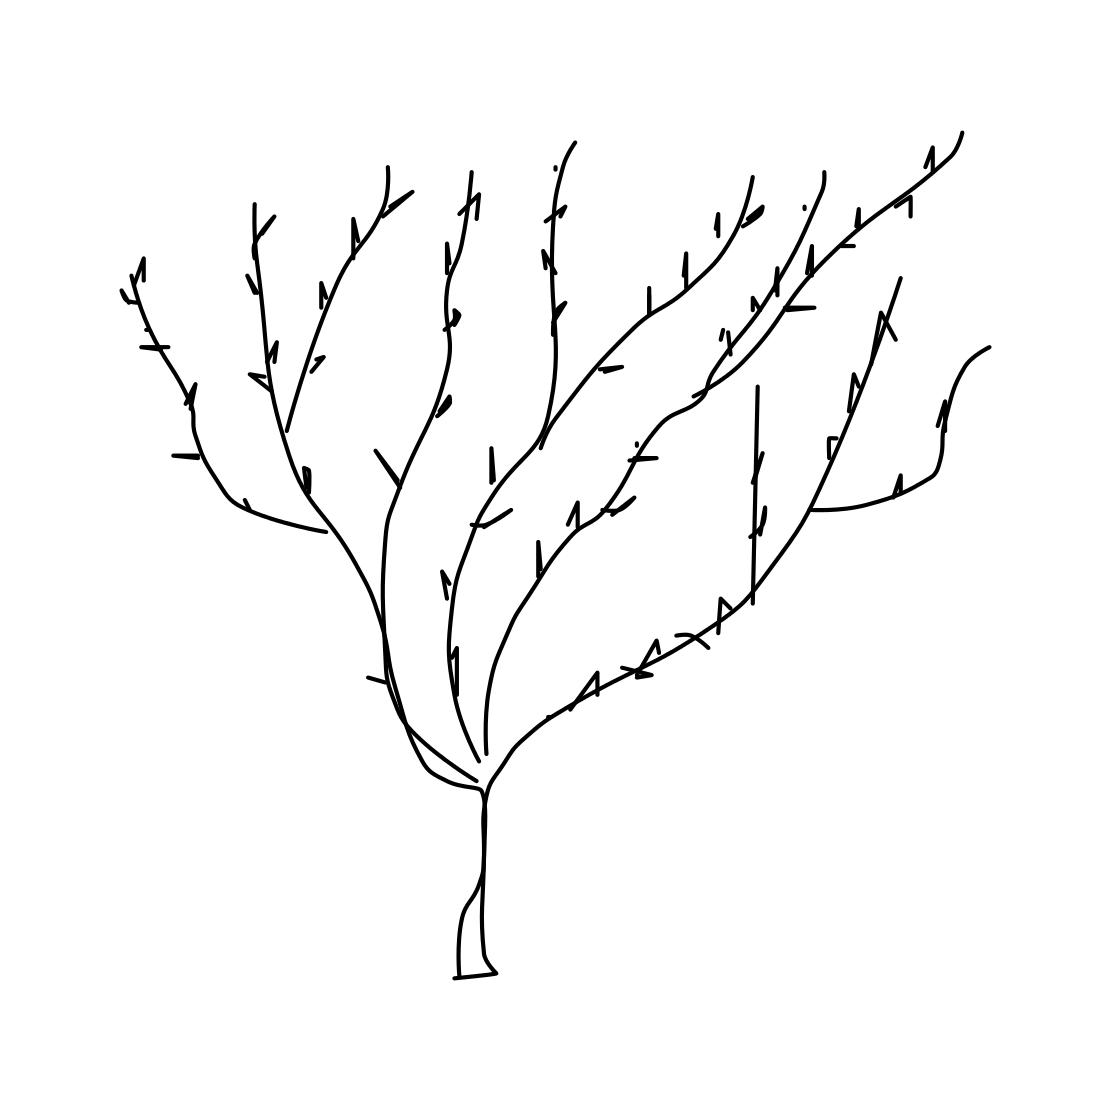Tree: (73, 61, 1001, 1000)
